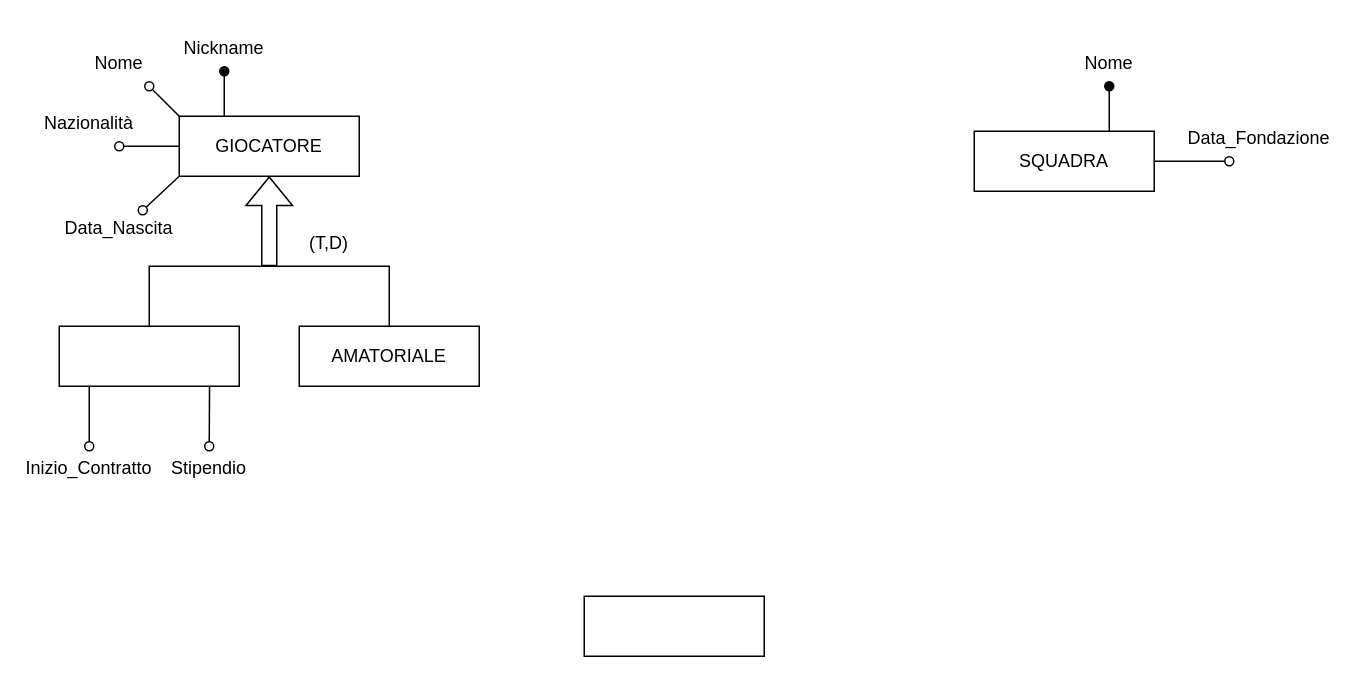
This 1356x683 diagram has some shape labels left out. The shapes that lost their labels are listed below. From the top down, each one's box as (x1, y1, x2, y2) in pixels, then its label:
(58, 325, 239, 386): PROFESSIONALE
(583, 595, 764, 656): TORNEO
